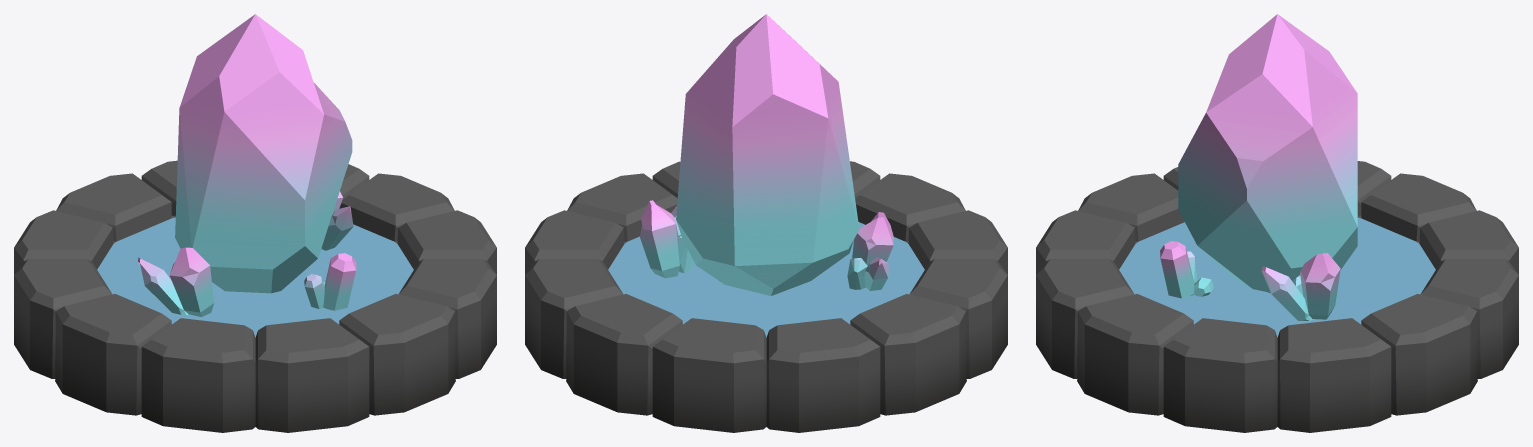
File: Crystal_with_stand_02.fbx
The picture shows the model from 3 angles, left to right: view 1: azimuth 30°, elevation 25°; view 2: azimuth 150°, elevation 25°; view 3: azimuth 270°, elevation 25°; orthographic projection.
Parts seen in each view (by area): view 1: Crystal_with_stand.001, Cylinder.002, Crystal_02.011, Crystal_01.010, Crystal_02.012; view 2: Crystal_with_stand.001, Cylinder.002, Crystal_02.012, Crystal_02.011; view 3: Crystal_with_stand.001, Cylinder.002, Crystal_02.012, Crystal_01.010.
Boxes of the visible parts, <box> form: Crystal_with_stand.001: <box>14,160,496,432</box>; Cylinder.002: <box>175,14,352,293</box>; Crystal_02.011: <box>138,247,213,316</box>; Crystal_01.010: <box>304,253,356,310</box>; Crystal_02.012: <box>321,191,353,250</box>; Crystal_with_stand.001: <box>525,161,1007,432</box>; Cylinder.002: <box>676,14,859,295</box>; Crystal_02.012: <box>640,200,693,278</box>; Crystal_02.011: <box>847,212,893,290</box>; Crystal_with_stand.001: <box>1036,161,1518,432</box>; Cylinder.002: <box>1178,14,1357,293</box>; Crystal_02.012: <box>1261,253,1340,320</box>; Crystal_01.010: <box>1160,241,1213,298</box>.
Size of the model in its own units: 108 by 78.14 by 108.
